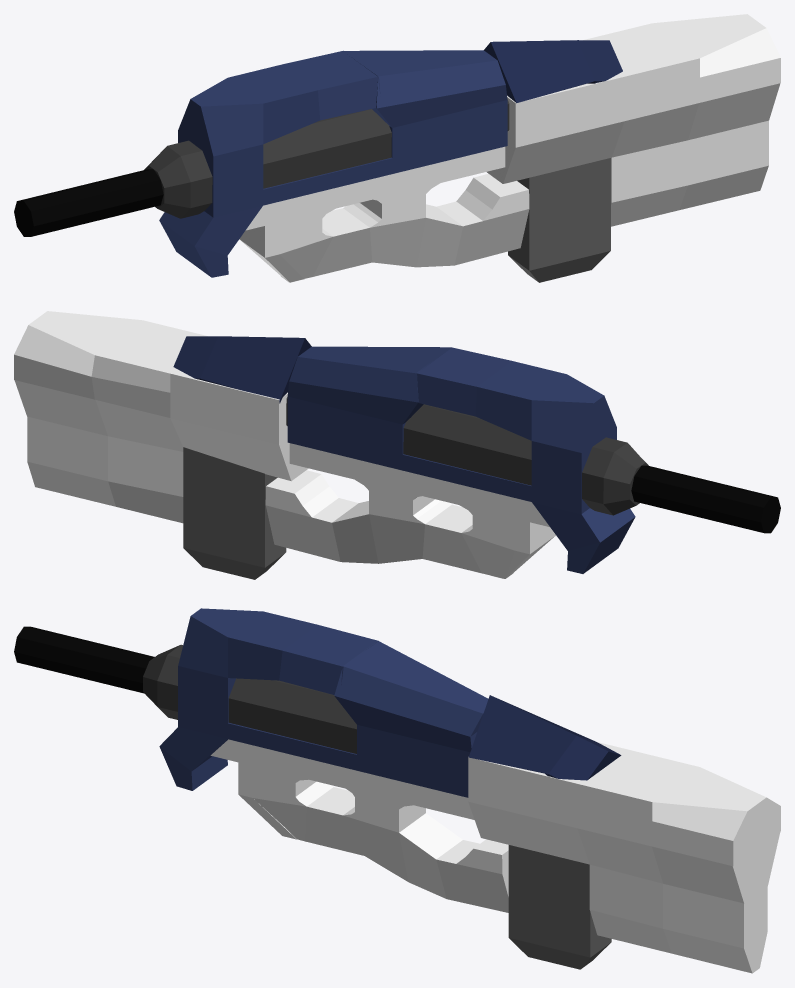
File: p90_basic_scaled.fbx
3 views of the same model, one above another, from view 1: azimuth 30°, elevation 25°; view 2: azimuth 150°, elevation 25°; view 3: azimuth 330°, elevation 25° (orthographic).
Visible parts, largest first — view 1: Cube.002, Cube, Cube.001, r, Cube.003, Cylinder, Cylinder.001; view 2: Cube.002, Cube, Cube.001, r, Cube.003, Cylinder, Cylinder.001; view 3: Cube.002, Cube, Cube.001, Cube.003, r, Cylinder, Cylinder.001.
Boxes of the visible parts, box(x1,y1,x2,y2) form: Cube.002: box(487, 14, 780, 226); Cube: box(159, 50, 507, 277); Cube.001: box(239, 146, 529, 282); r: box(144, 99, 509, 218); Cube.003: box(508, 158, 610, 282); Cylinder: box(484, 40, 622, 103); Cylinder.001: box(14, 169, 163, 236); Cube.002: box(14, 311, 308, 523); Cube: box(287, 346, 635, 573); Cube.001: box(265, 443, 555, 578); r: box(286, 397, 648, 515); Cube.003: box(183, 447, 286, 579); Cylinder: box(173, 336, 311, 403); Cylinder.001: box(631, 465, 780, 533); Cube.002: box(468, 742, 780, 973); Cube: box(159, 608, 488, 797); Cube.001: box(210, 739, 508, 912); Cube.003: box(508, 845, 611, 969); r: box(143, 644, 356, 753); Cylinder: box(468, 695, 621, 780); Cylinder.001: box(14, 626, 154, 693).
Bounding box in the file's own units: 81.68 × 27.51 × 9.9.
